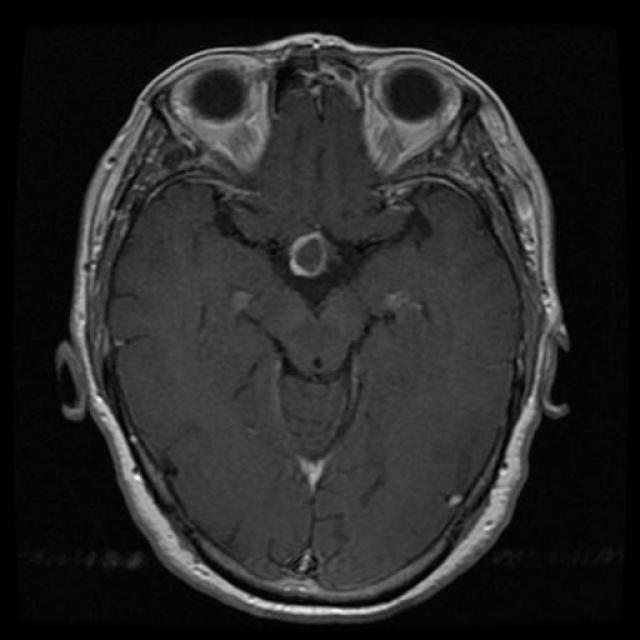Brain-Tumor: (277, 216, 343, 282)
eye: (349, 30, 478, 191), (158, 38, 290, 183)
